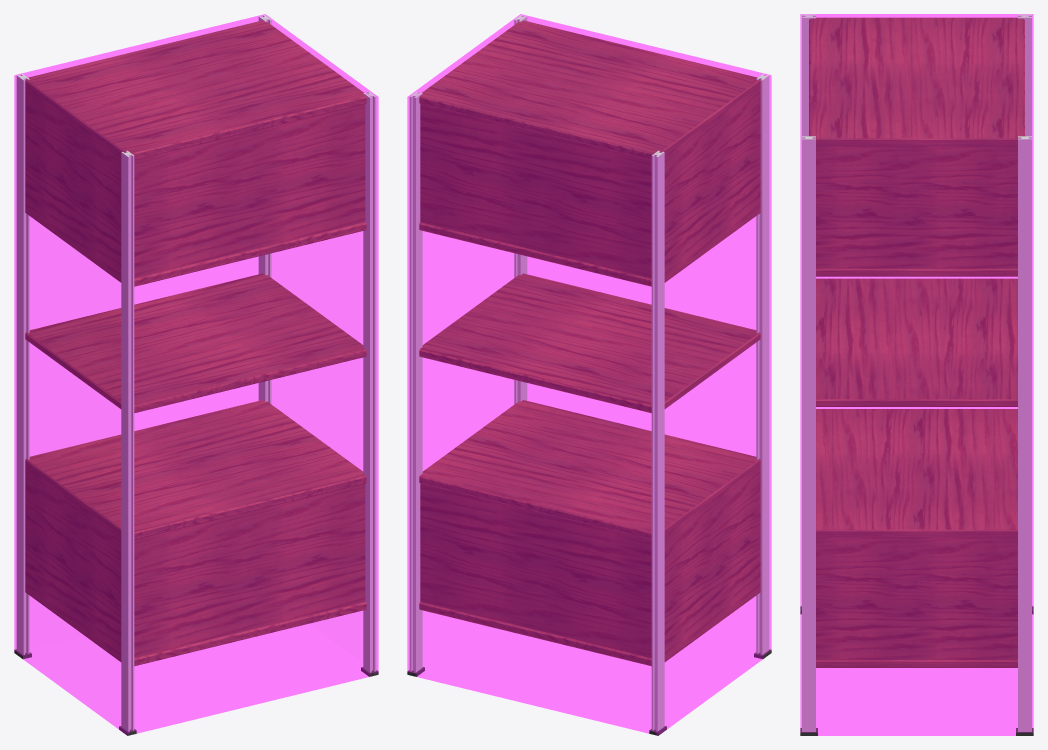
Rendered from shelf_B.fbx.
3 views of the same model, side by side, from view 1: azimuth 30°, elevation 25°; view 2: azimuth 150°, elevation 25°; view 3: azimuth 270°, elevation 25° (orthographic). The views are drawn at different scales.
Parts seen in each view (by area): view 1: boundingbox, shelf_B; view 2: boundingbox, shelf_B; view 3: boundingbox, shelf_B.
Boxes of the visible parts, box(x1,y1,x2,y2) form: boundingbox: box(14, 14, 378, 735); shelf_B: box(14, 15, 378, 735); boundingbox: box(407, 14, 771, 734); shelf_B: box(407, 15, 771, 735); boundingbox: box(800, 14, 1033, 735); shelf_B: box(800, 14, 1033, 735).
Bounding box in the file's own units: 83.03 × 183 × 64.91.
Materials: 4 (1 with a texture image).
